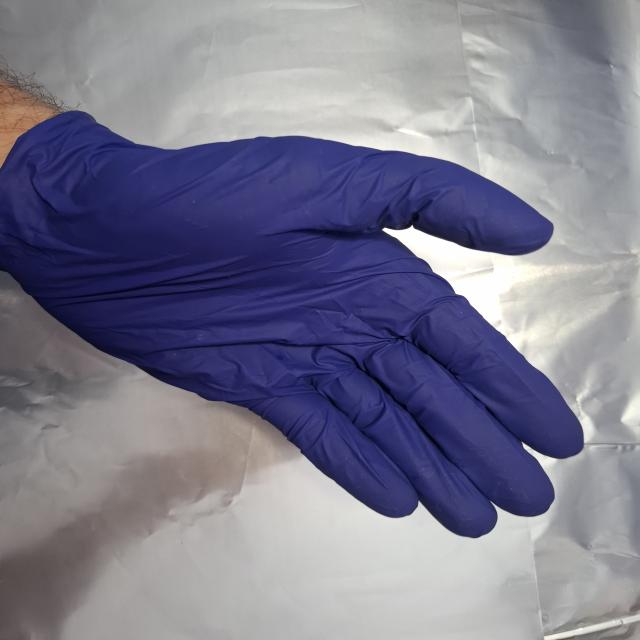glove_on: (3, 103, 587, 542)
